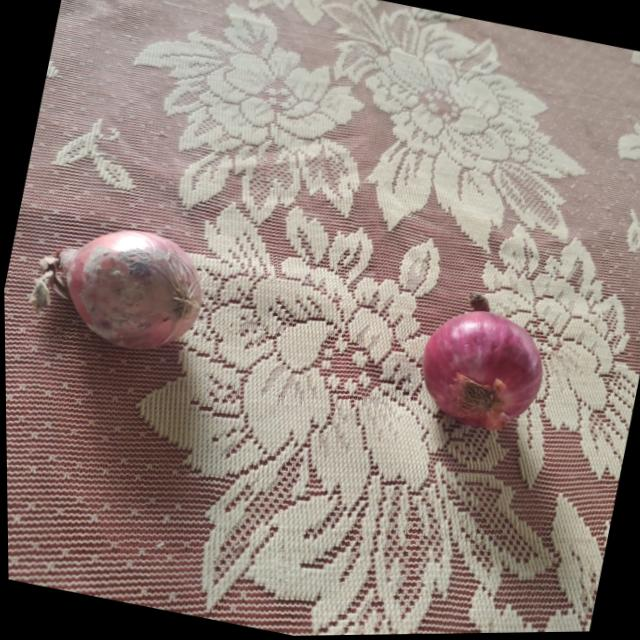onion: (28, 212, 215, 358), (411, 303, 553, 438)
